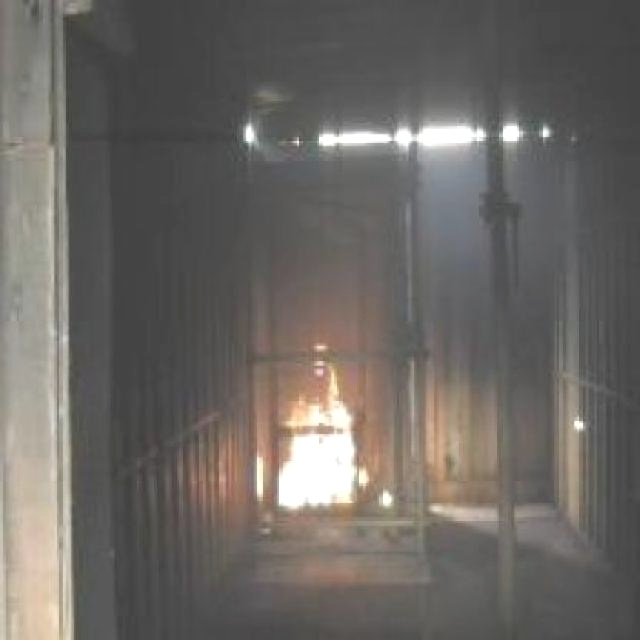fire: (273, 327, 367, 521)
